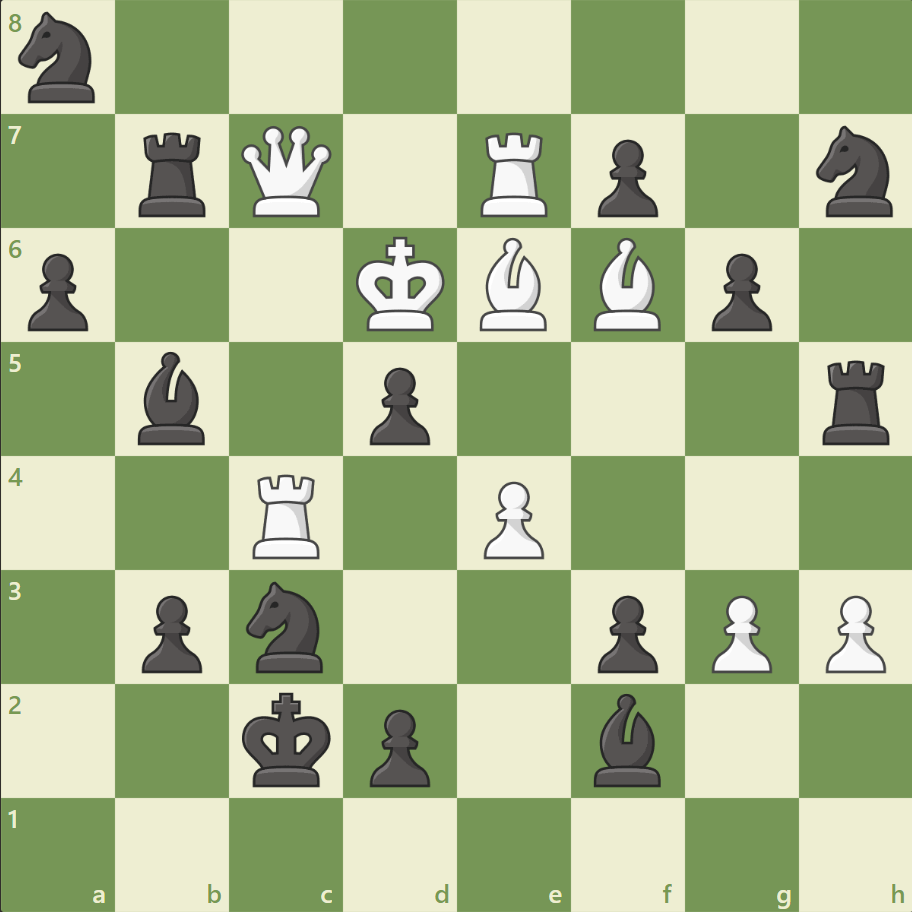B: (471, 233, 555, 336), (585, 233, 669, 336)
K: (351, 231, 451, 339)
P: (474, 473, 549, 564), (701, 586, 776, 677), (815, 586, 889, 677)
Q: (237, 122, 336, 222)
R: (473, 125, 556, 222), (246, 466, 329, 563)
b: (585, 687, 669, 790), (131, 347, 215, 449)
k: (238, 685, 338, 793)
n: (11, 7, 108, 110), (806, 121, 903, 223), (238, 575, 335, 677)
p: (20, 246, 95, 337), (701, 246, 776, 337), (133, 586, 208, 677), (588, 132, 662, 223), (361, 359, 435, 450), (588, 586, 662, 677), (361, 700, 435, 791)
r: (814, 352, 897, 449), (133, 125, 215, 222)
